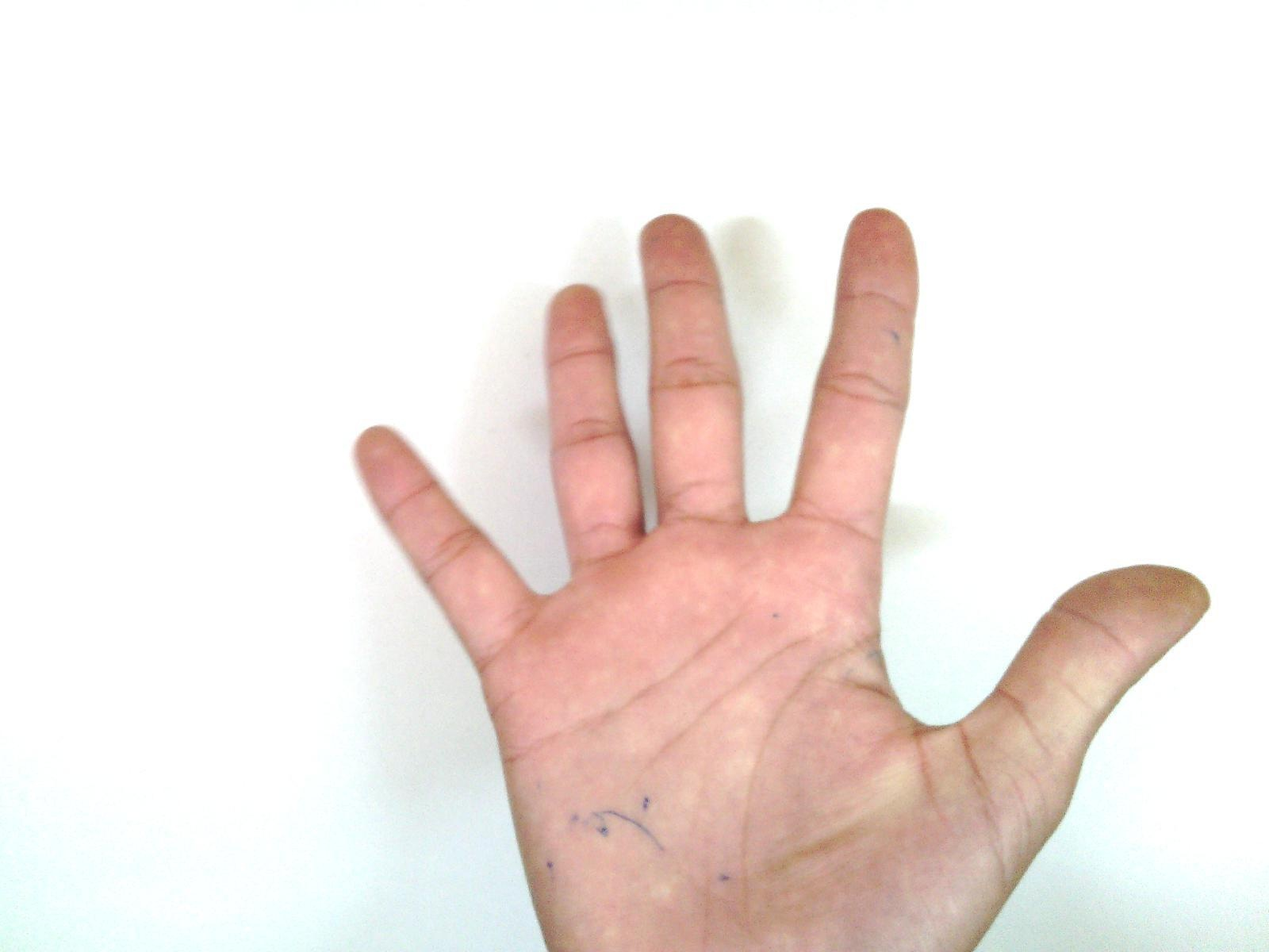open_palm: (350, 206, 1212, 951)
